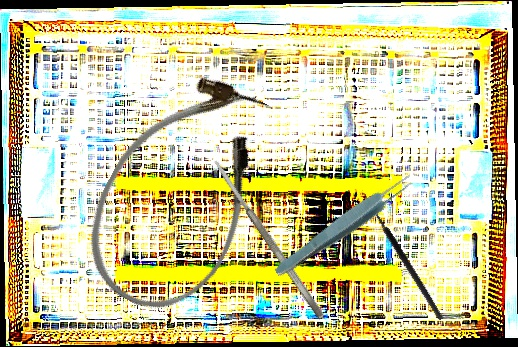Cannula: (63, 55, 297, 331)
Hook Surgical: (352, 189, 445, 325)
Spatula Surgical: (210, 157, 327, 321)
Tissue Forceps: (270, 169, 419, 283)
